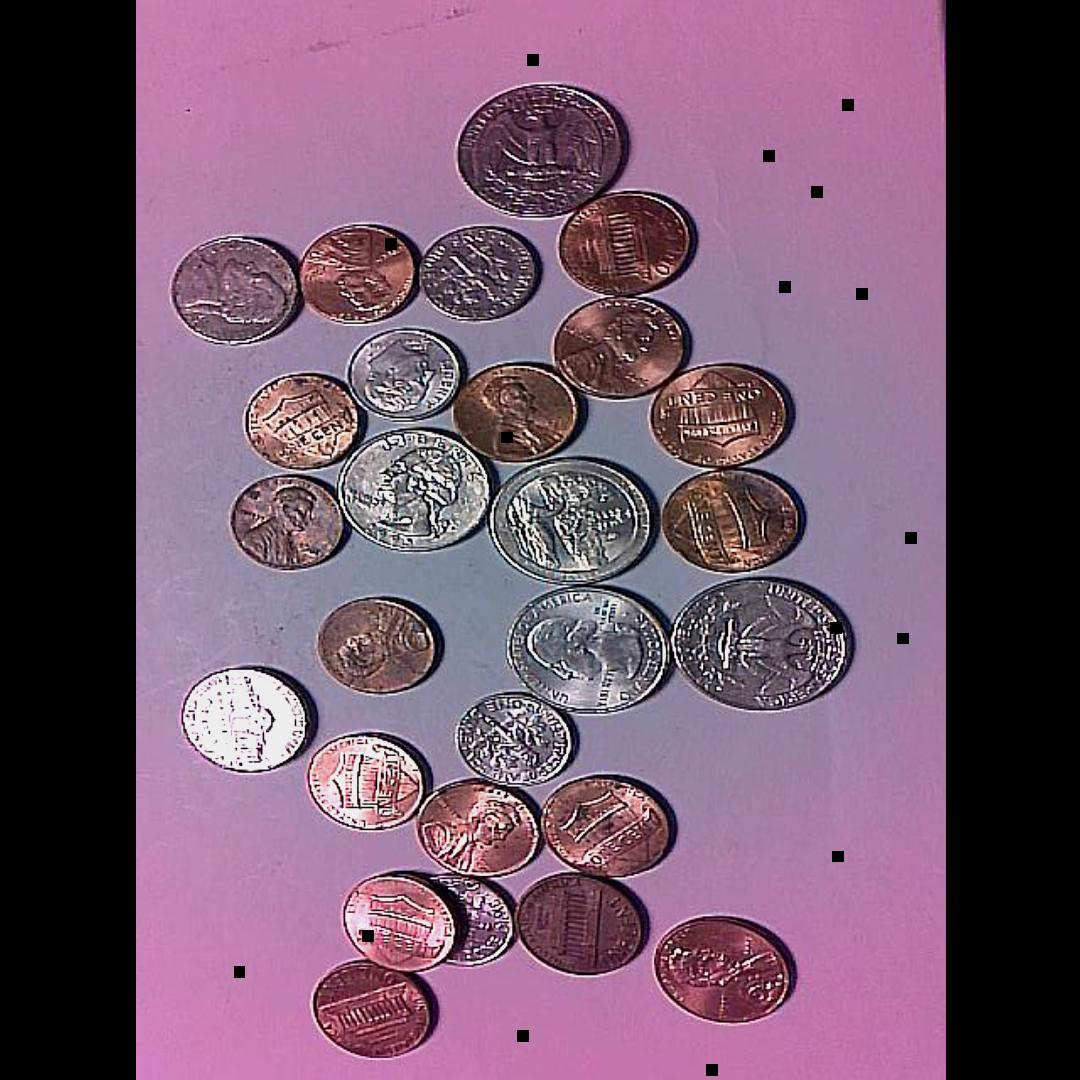Dime: (414, 226, 544, 324), (454, 689, 583, 787), (342, 325, 467, 420), (431, 872, 516, 967)
Nickel: (170, 663, 312, 771), (167, 233, 300, 346)
Penny: (642, 357, 794, 473), (550, 185, 695, 298), (296, 729, 444, 839), (655, 916, 796, 1024), (661, 467, 804, 572), (556, 299, 695, 400), (298, 218, 426, 326), (515, 873, 646, 978), (447, 364, 582, 464), (412, 780, 543, 883), (335, 872, 465, 972), (309, 964, 439, 1061), (544, 778, 672, 876), (227, 469, 352, 567), (316, 597, 439, 694), (241, 371, 361, 469)
Quarter: (670, 574, 859, 716), (486, 454, 668, 593), (456, 79, 631, 215), (338, 427, 498, 560), (507, 586, 673, 713)
